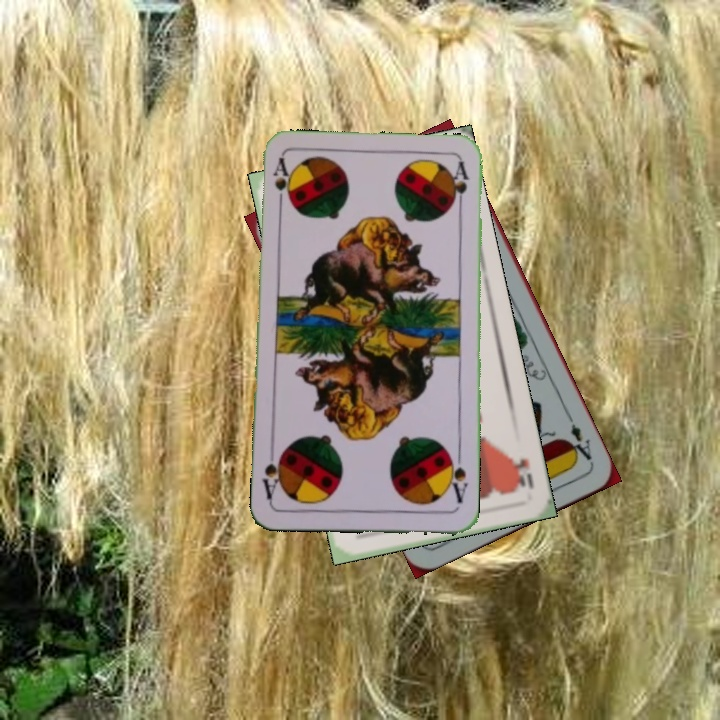EA: (562, 411, 595, 464)
HO: (508, 453, 536, 492)
SA: (444, 449, 470, 505), (269, 155, 293, 214)
